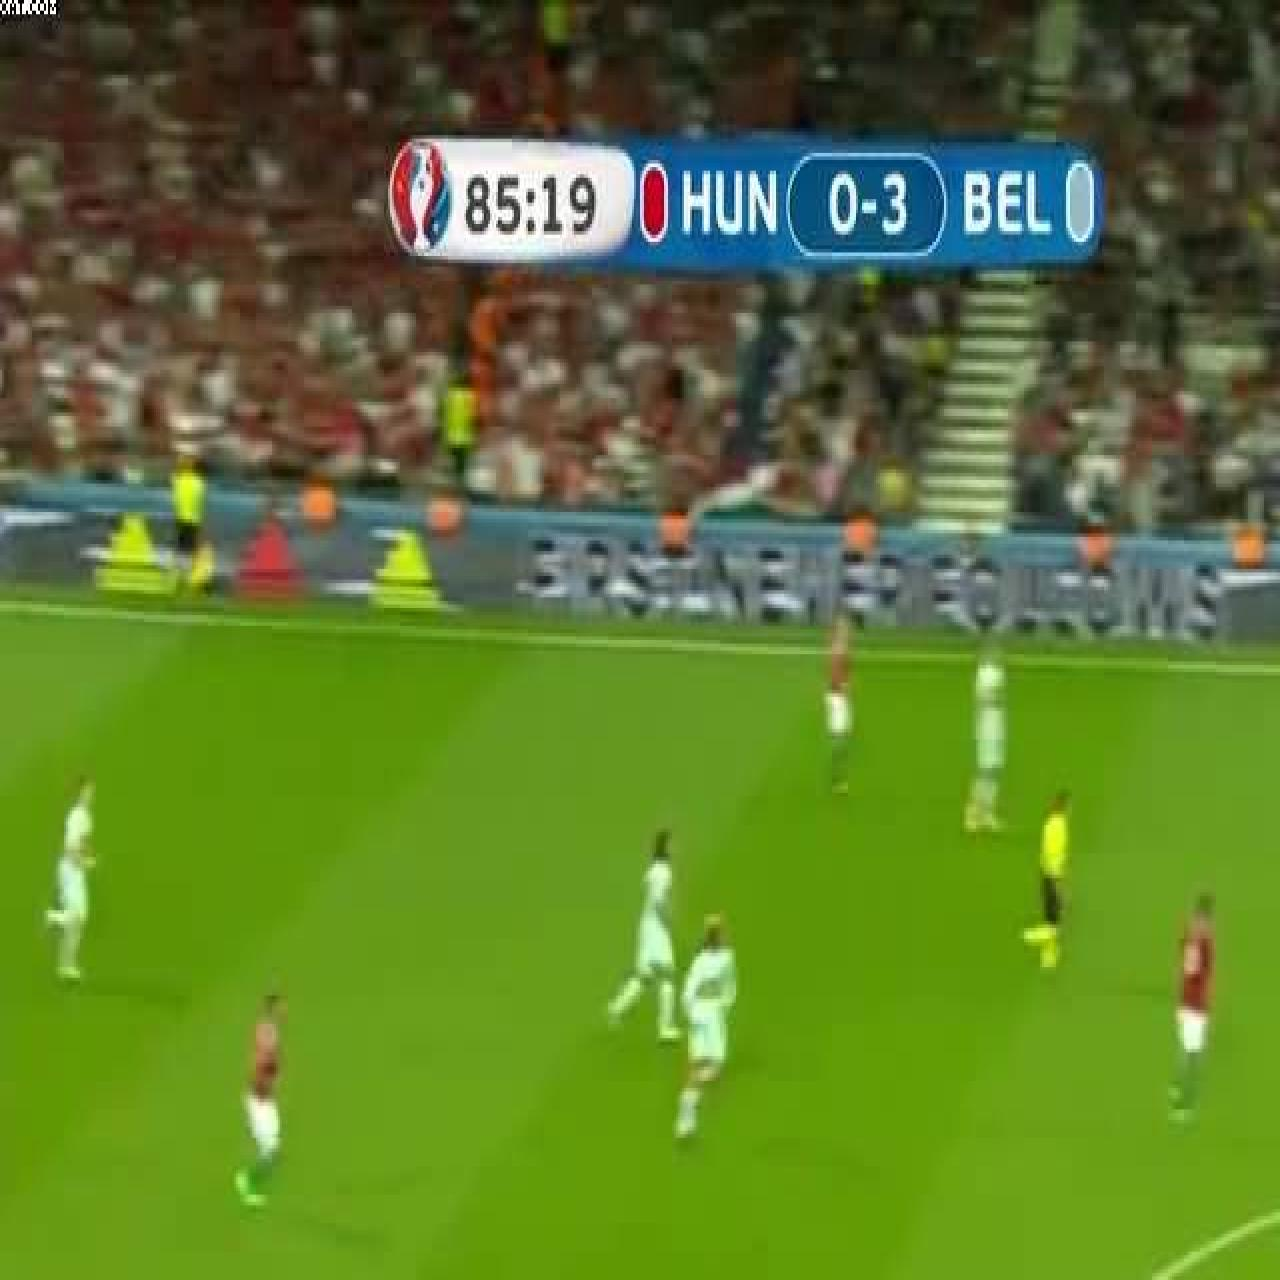football: (607, 824, 682, 1040), (672, 912, 735, 1137), (1168, 891, 1216, 1131), (231, 996, 284, 1208), (46, 771, 98, 985), (963, 633, 1006, 838), (1024, 789, 1068, 970), (822, 611, 857, 798)
